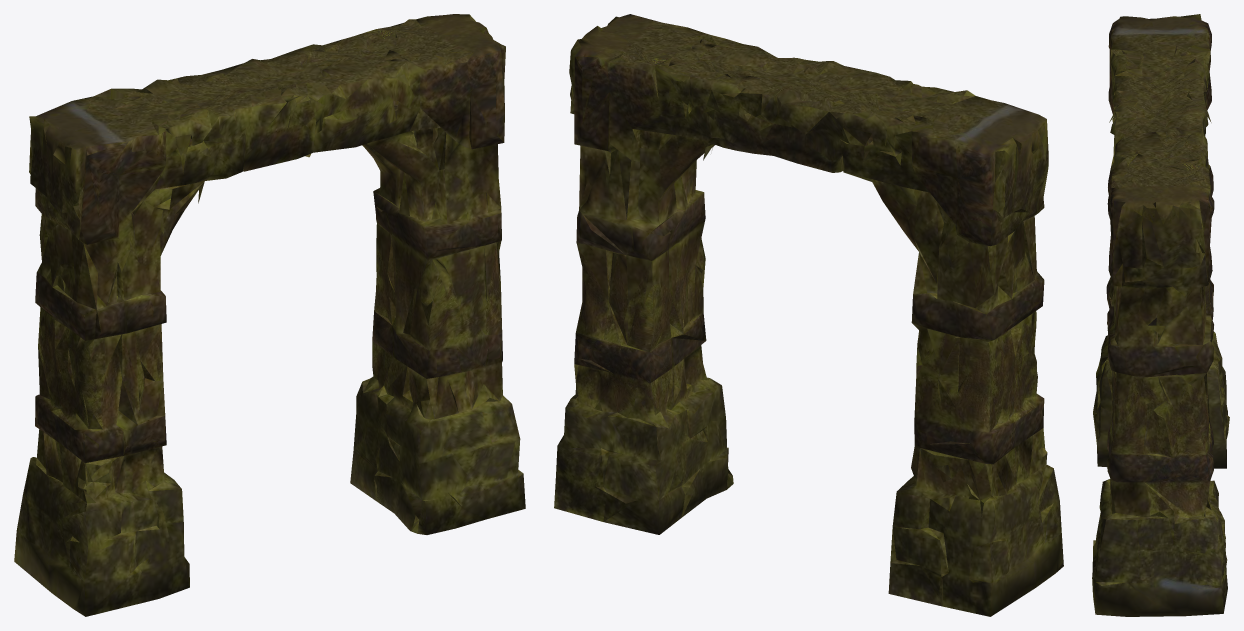
Rendered from prison-arch.glb.
3 renders of one model, left to right at view 1: azimuth 30°, elevation 25°; view 2: azimuth 150°, elevation 25°; view 3: azimuth 270°, elevation 25°, orthographic. The views are drawn at different scales.
Bounding box in the file's own units: 2 × 1.98 × 0.5962.
1 material, 1 textured.
